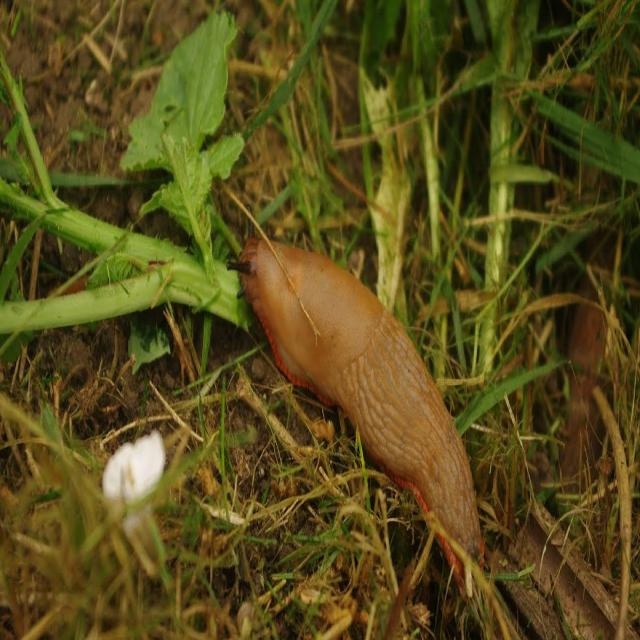slug: (222, 205, 488, 602)
